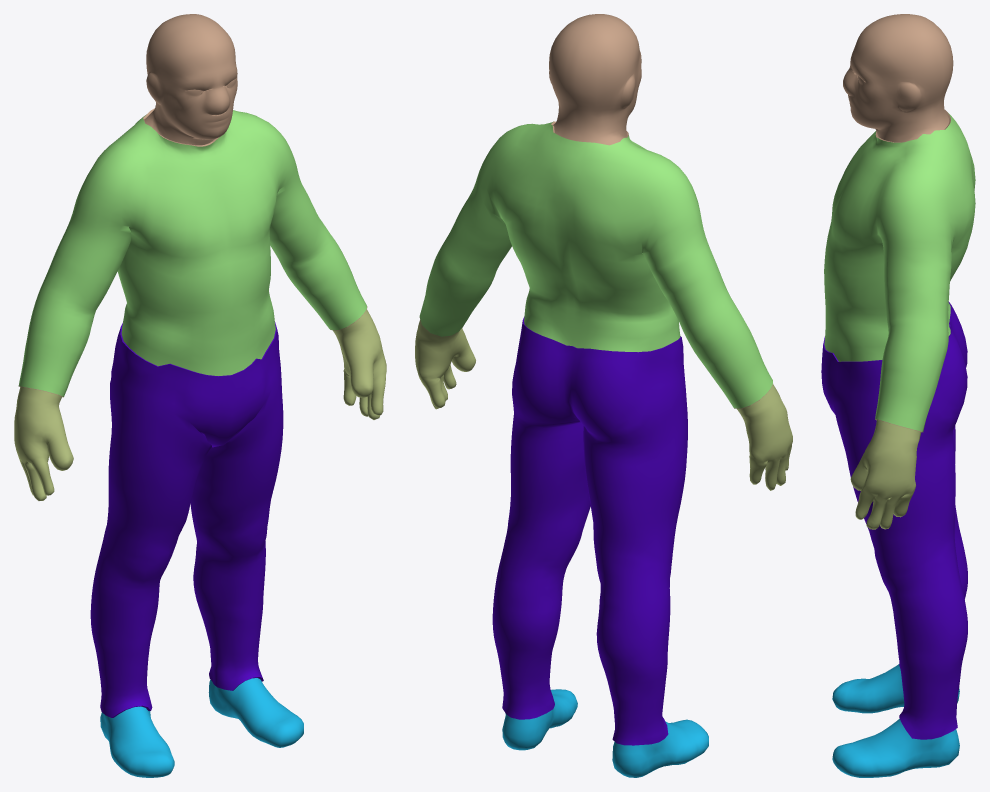
Rendered from human.fbx.
3 views of the same model, side by side, from view 1: azimuth 30°, elevation 25°; view 2: azimuth 150°, elevation 25°; view 3: azimuth 270°, elevation 25° (orthographic).
Parts seen in each view (by area): view 1: humanBody_Copy; view 2: humanBody_Copy; view 3: humanBody_Copy.
Part boxes in pixels (x1=…): humanBody_Copy: x1=14, y1=14, x2=386, y2=777; humanBody_Copy: x1=415, y1=14, x2=792, y2=777; humanBody_Copy: x1=821, y1=14, x2=975, y2=777.
Size of the model in its own units: 38.31 by 73.06 by 14.14.
